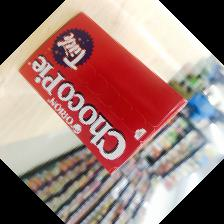Chocopie: (16, 10, 190, 177)
